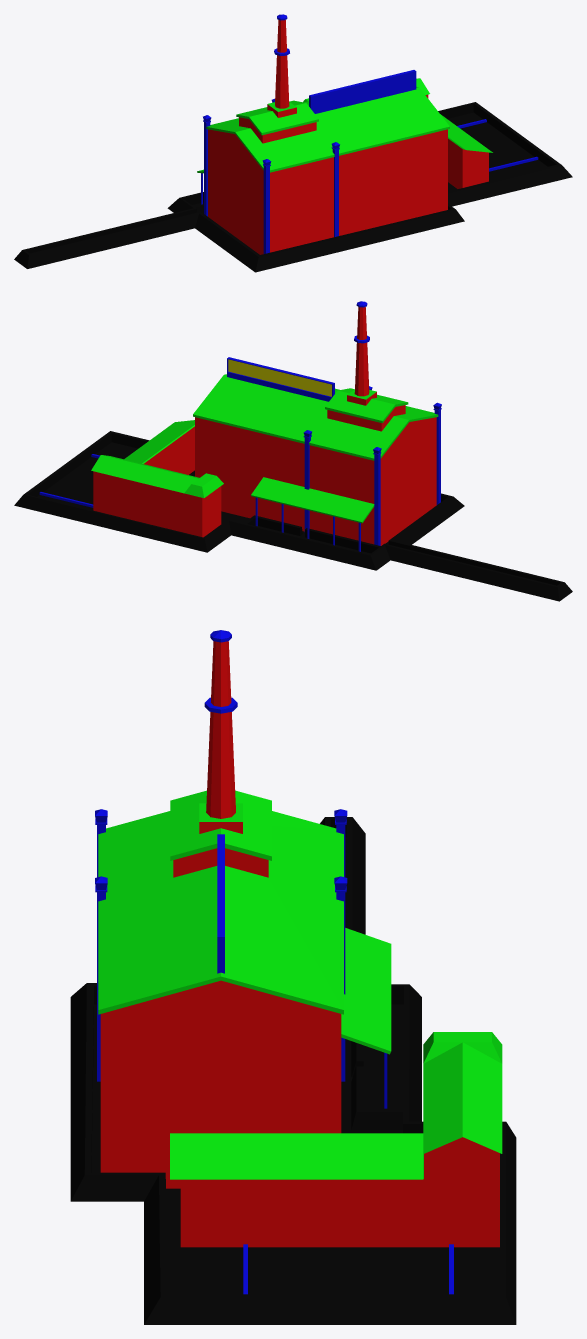
The model's file is Factory_2.0.fbx.
3 views of the same model, one above another, from view 1: azimuth 30°, elevation 25°; view 2: azimuth 150°, elevation 25°; view 3: azimuth 270°, elevation 25° (orthographic). The views are drawn at different scales.
Parts seen in each view (by area): view 1: mesh_factory; view 2: mesh_factory; view 3: mesh_factory.
Part boxes in pixels (x1=…): mesh_factory: x1=14, y1=14, x2=572, y2=272; mesh_factory: x1=14, y1=301, x2=572, y2=601; mesh_factory: x1=70, y1=630, x2=516, y2=1324.
Bounding box in the file's own units: 2948 × 1206 × 1129.
